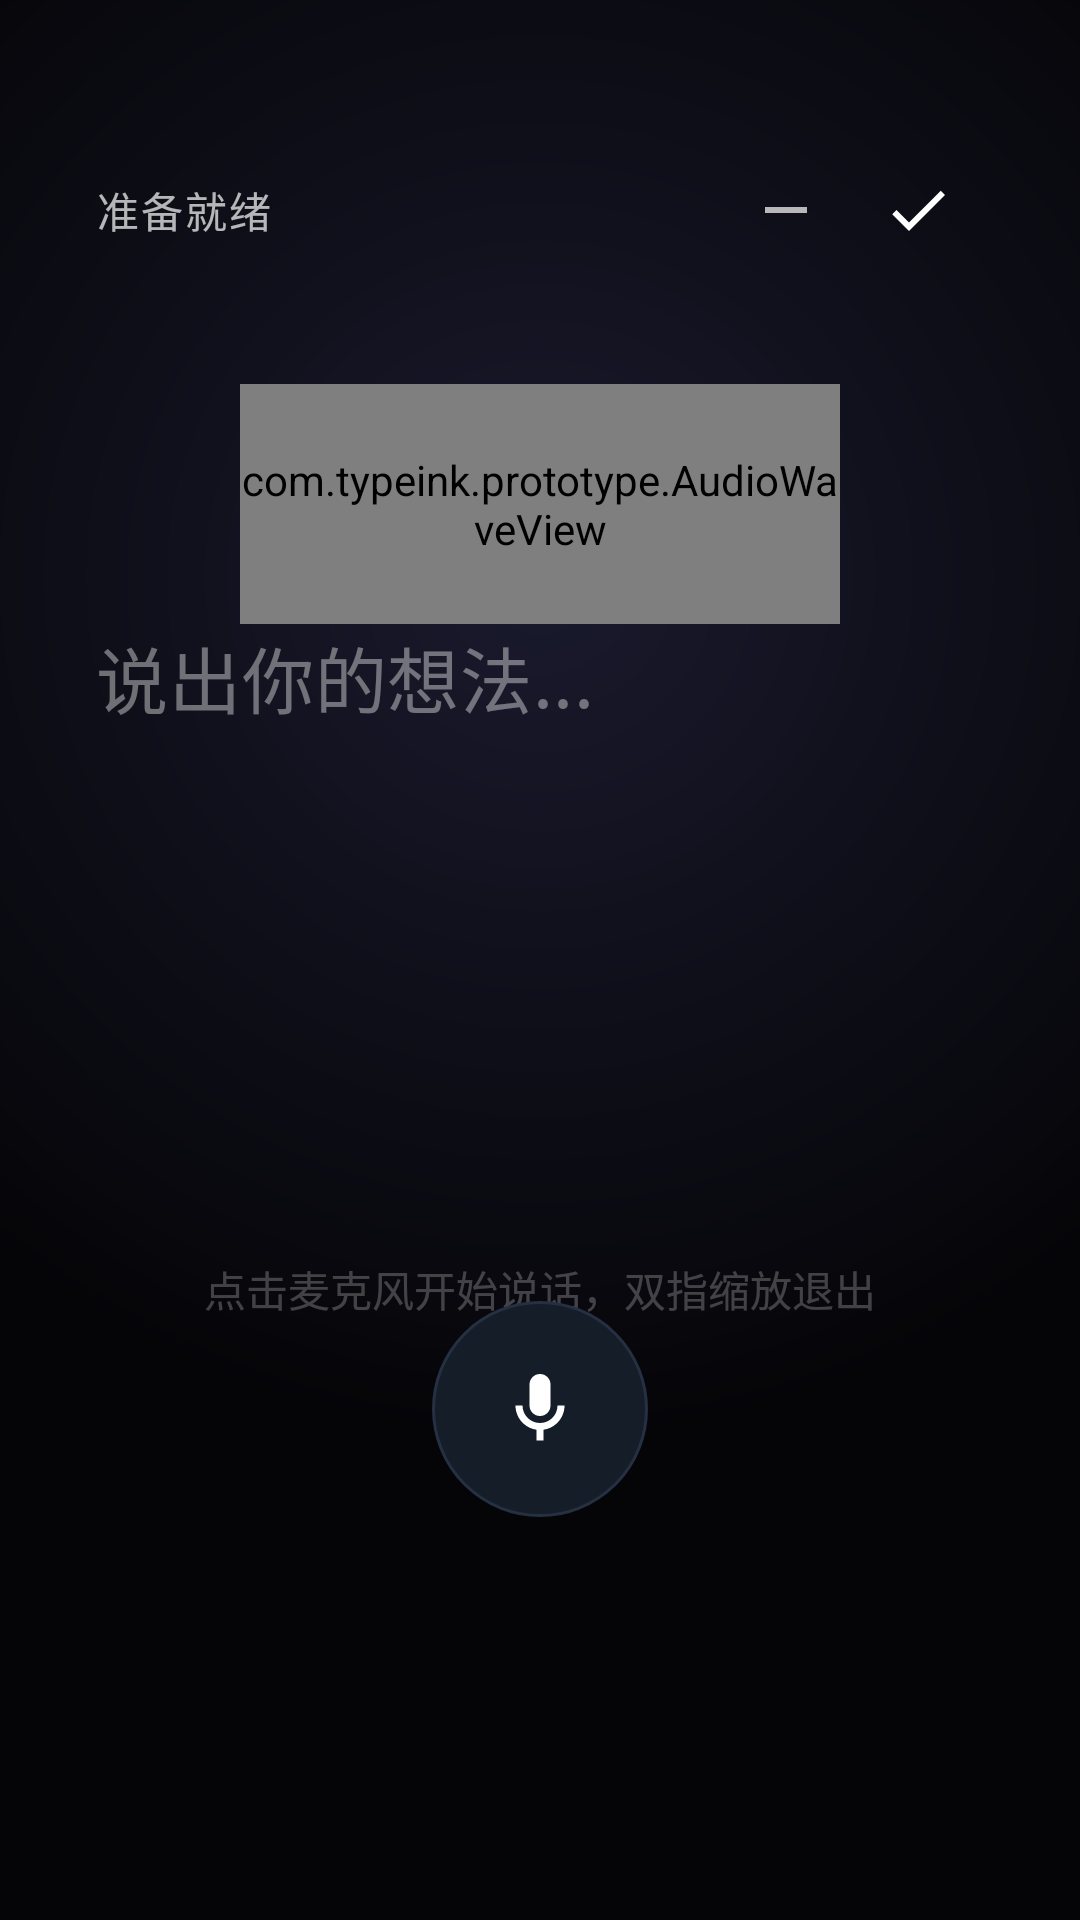

Icon click points for this 1080w x 1920h phone screenshot, format (x=x, y=y):
完成: (x=918, y=211)
